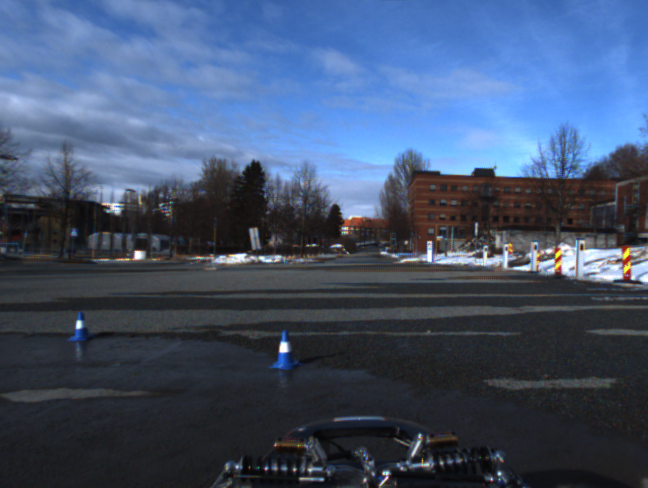cone-small-blue: (268, 329, 303, 370), (66, 312, 95, 342)
